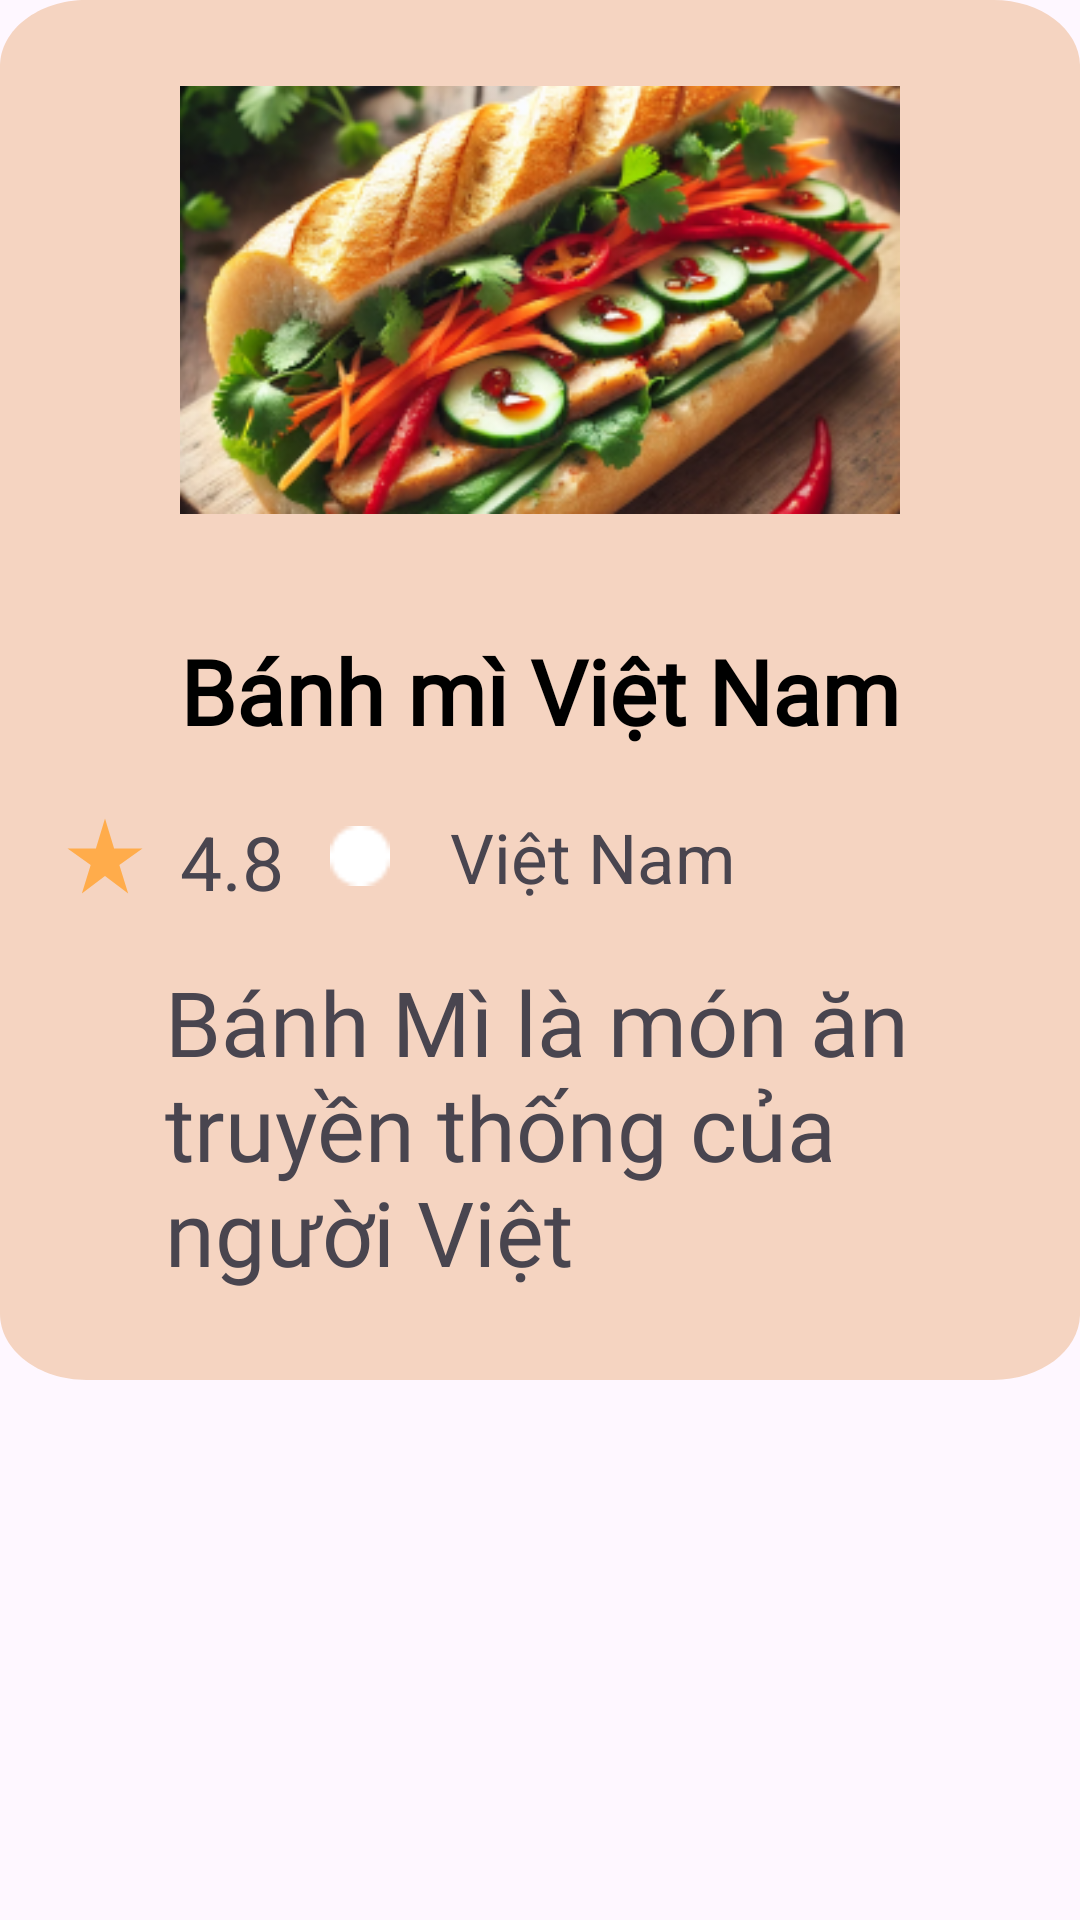

Named icons in this screenshot (1080w x 1920h) and their centers, [x,y]:
star: [105,856]
